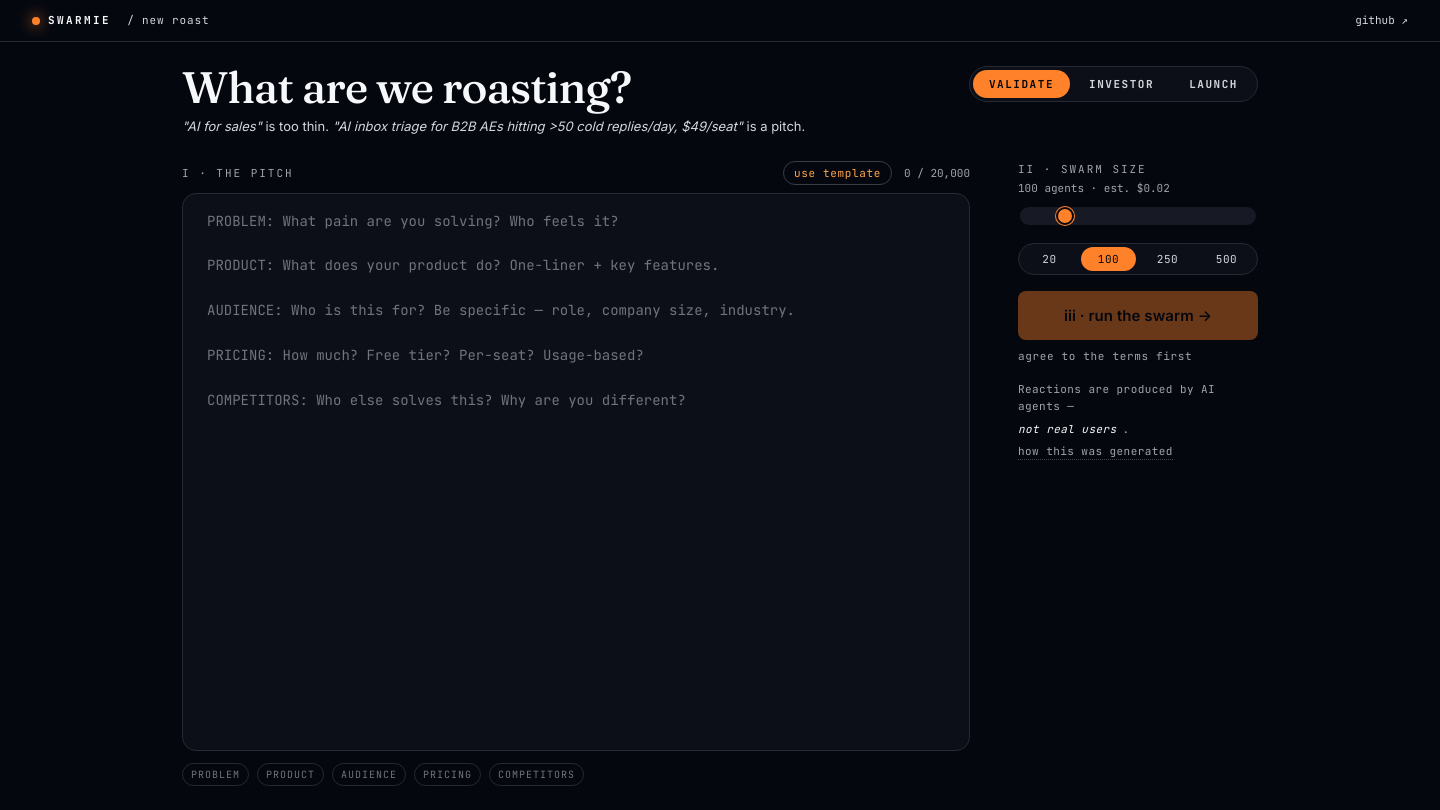
Test case: PitchInput — canSubmit gating › run button is enabled when pitch >= 40 chars and consent is checked
Replace the text in the text box with "PROBLEM: We solve the enterprise data silo problem for mid-market SaaS companies." at [576, 472], box 182,193 -> 970,750
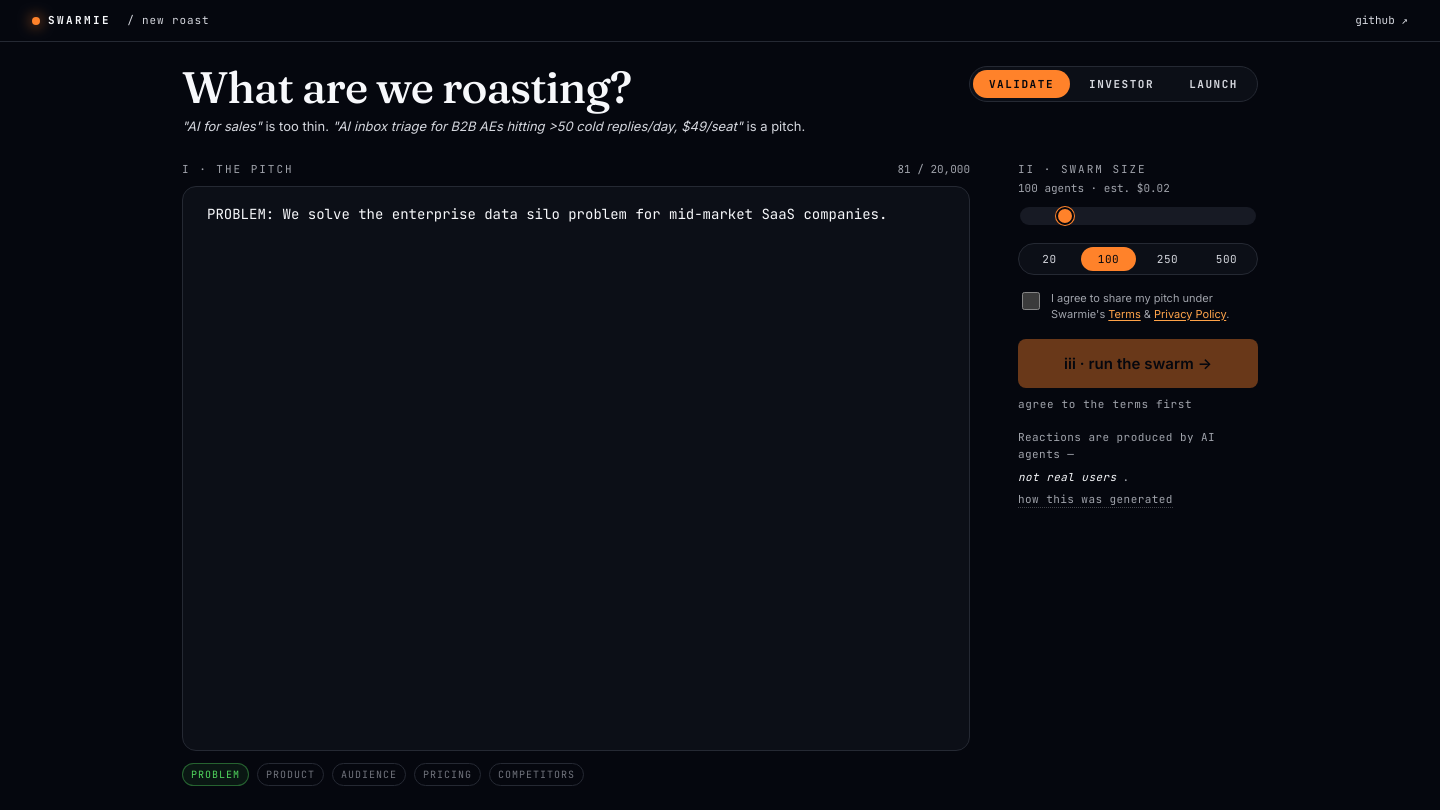
Click the checkbox at [1031, 301], box 1022,292 -> 1040,310
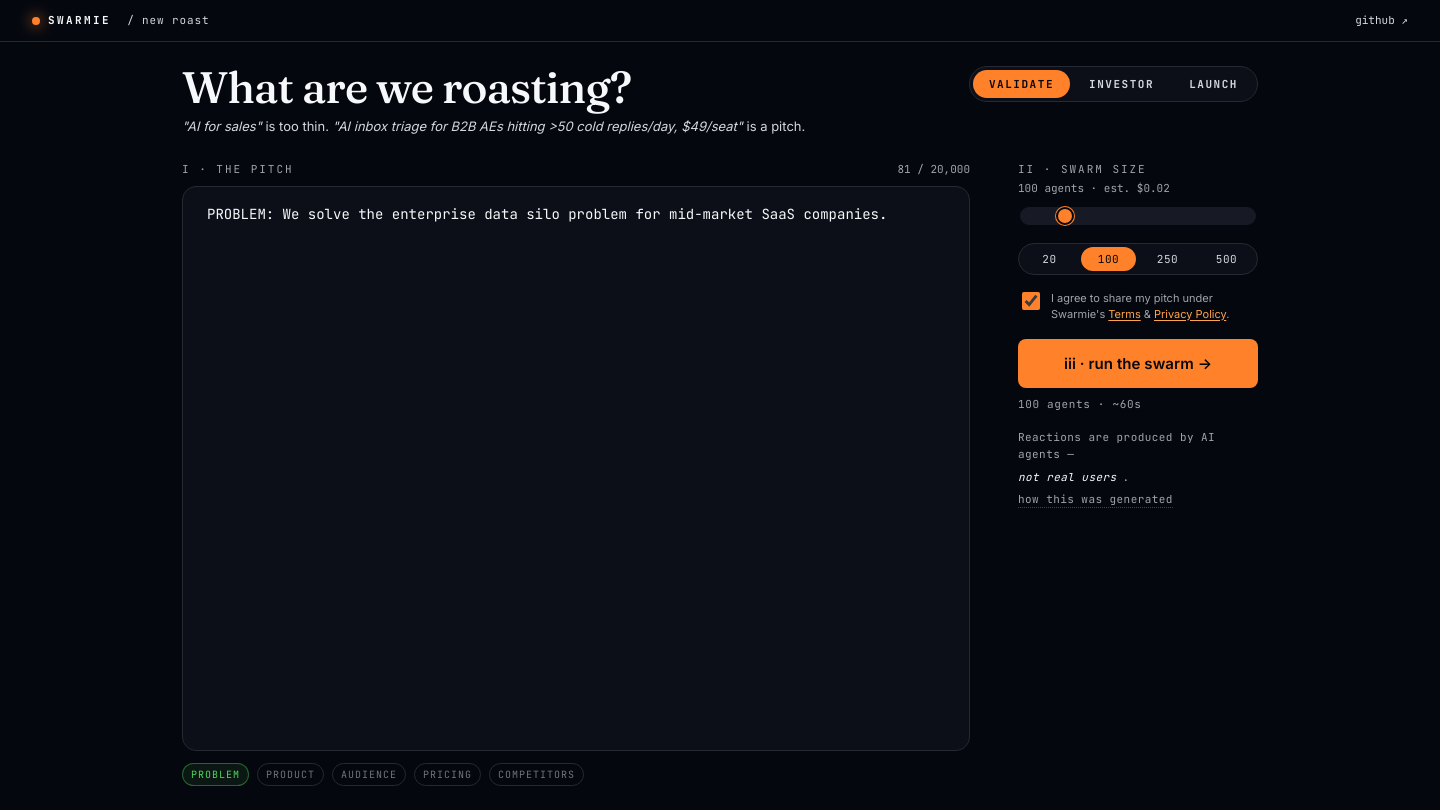
Check: the submit button is enabled, box 1018,339 -> 1258,388
